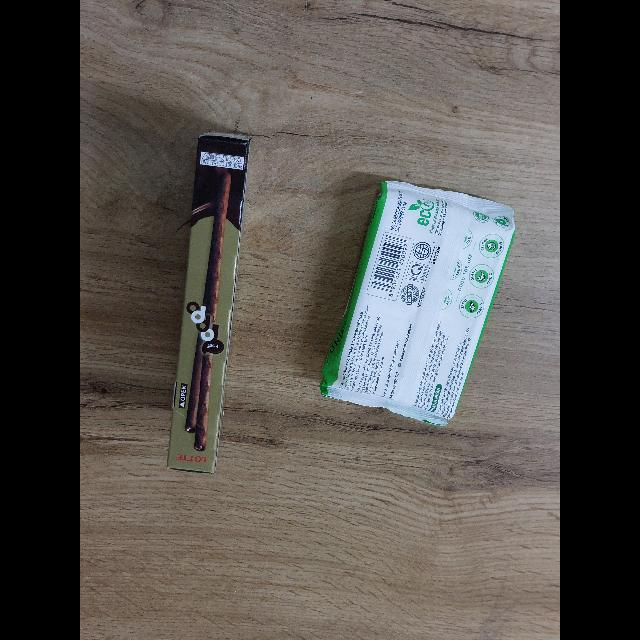banh_toppo_socola: (167, 131, 251, 474)
khan_giay: (319, 177, 516, 425)
